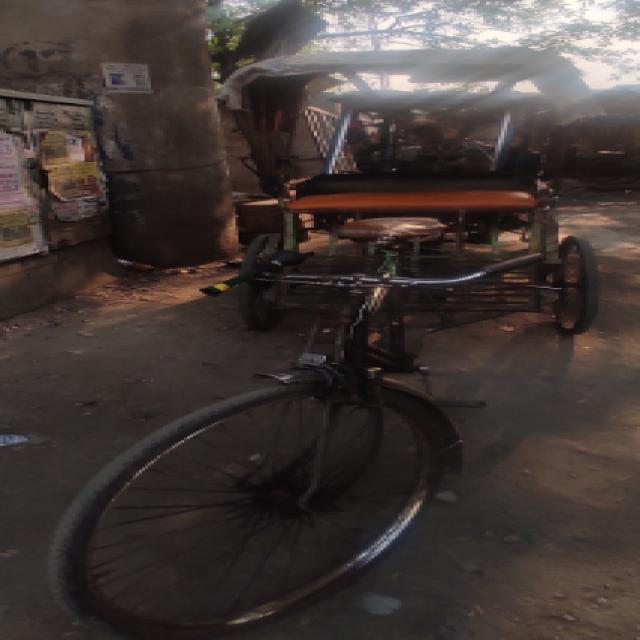rickshaw: (51, 45, 610, 638)
